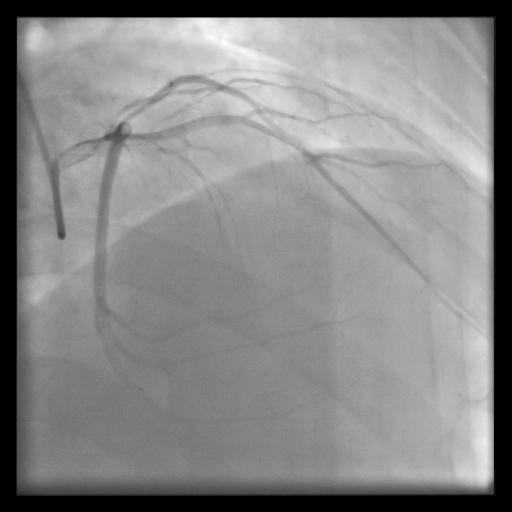Stenosis: (108, 97, 147, 117)
